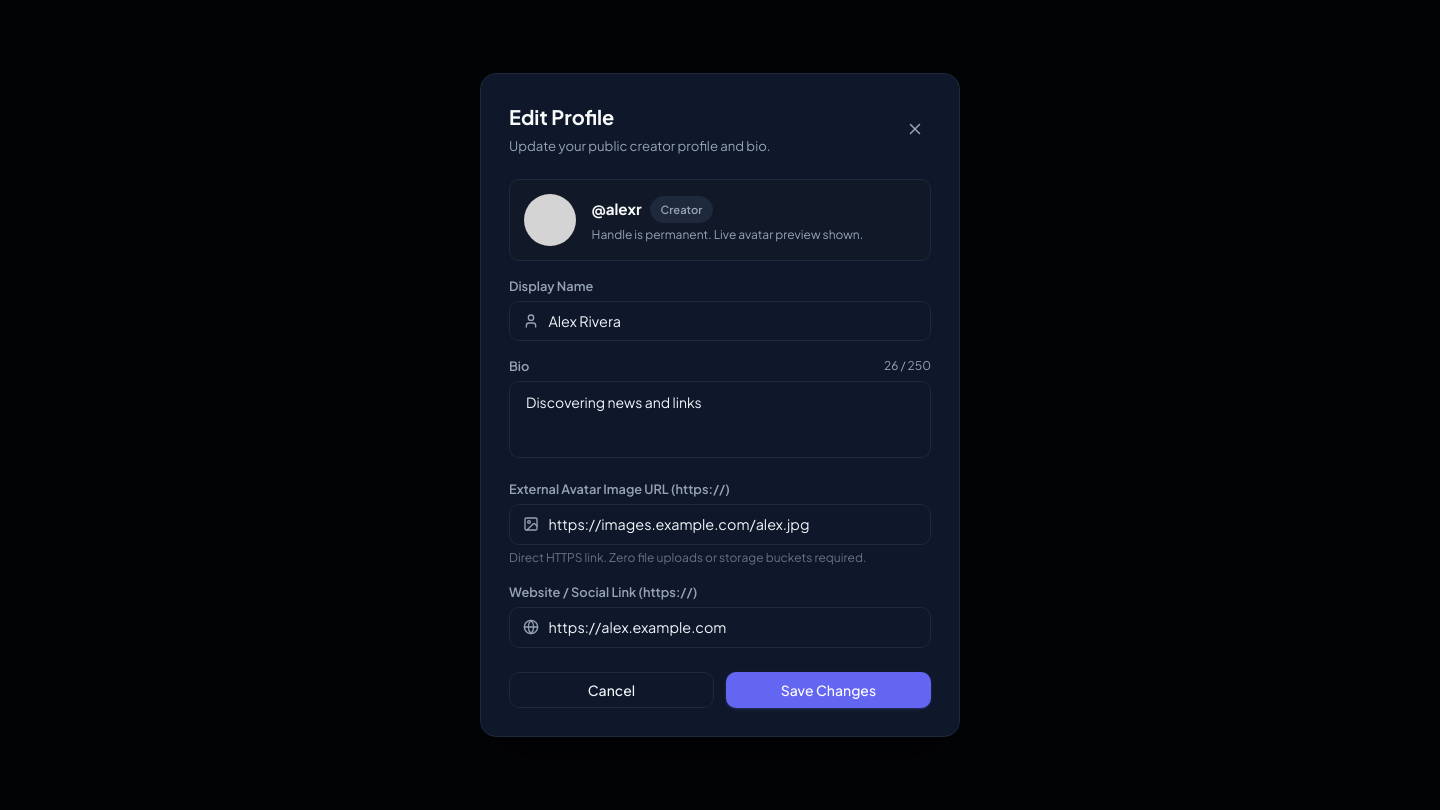
Phase 1 Plan 03 Authentication & Profile Verification › Profile Update Validations & Database Constraints › rejects non-https URLs for avatar and website
The image size is (1440, 810).
Check: the field showing "Alex Rivera" is shown, box [509,300,931,341]
Replace the text in the field labelled "External Avatar Image URL (https://)" with "http://insecure-image.com/pic.jpg" at (720,524), box [509,504,931,545]
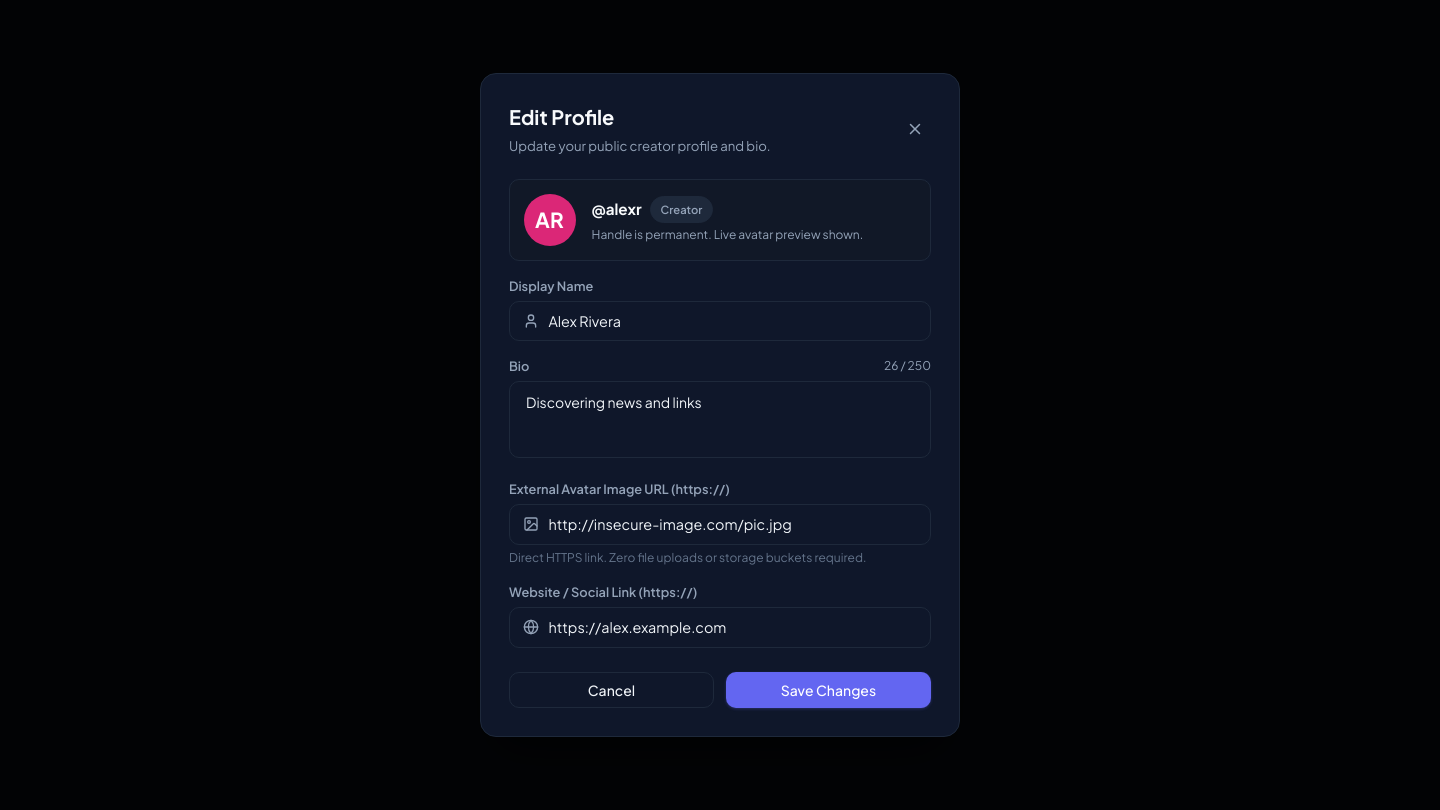
Click the button "Save Changes".
click(828, 690)  # box [726,672,931,708]
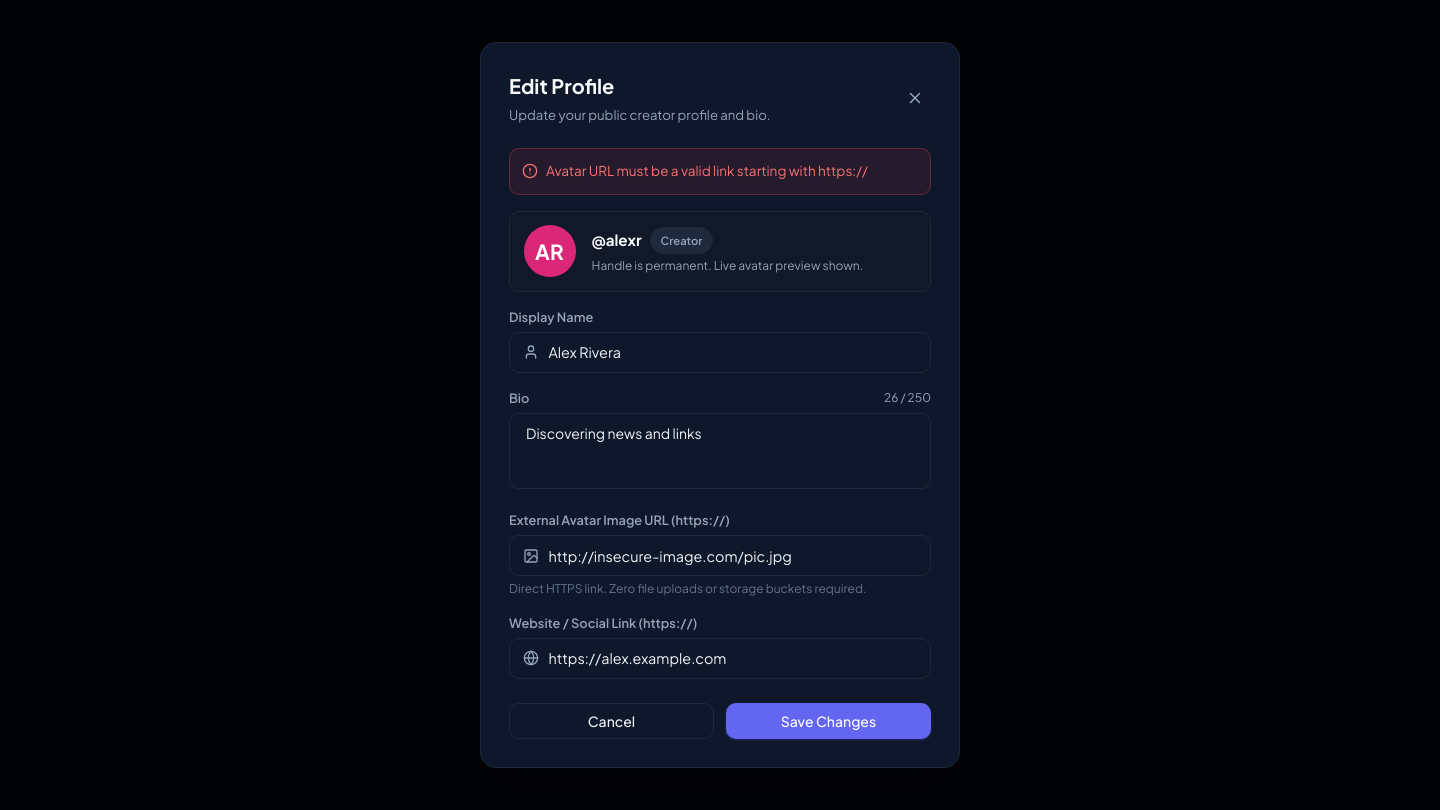
Check: the text "Avatar URL must be a valid link starting with https://" is shown, box [546,161,868,182]
